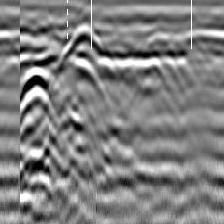Utility: (57, 21, 104, 76), (18, 63, 52, 132)
